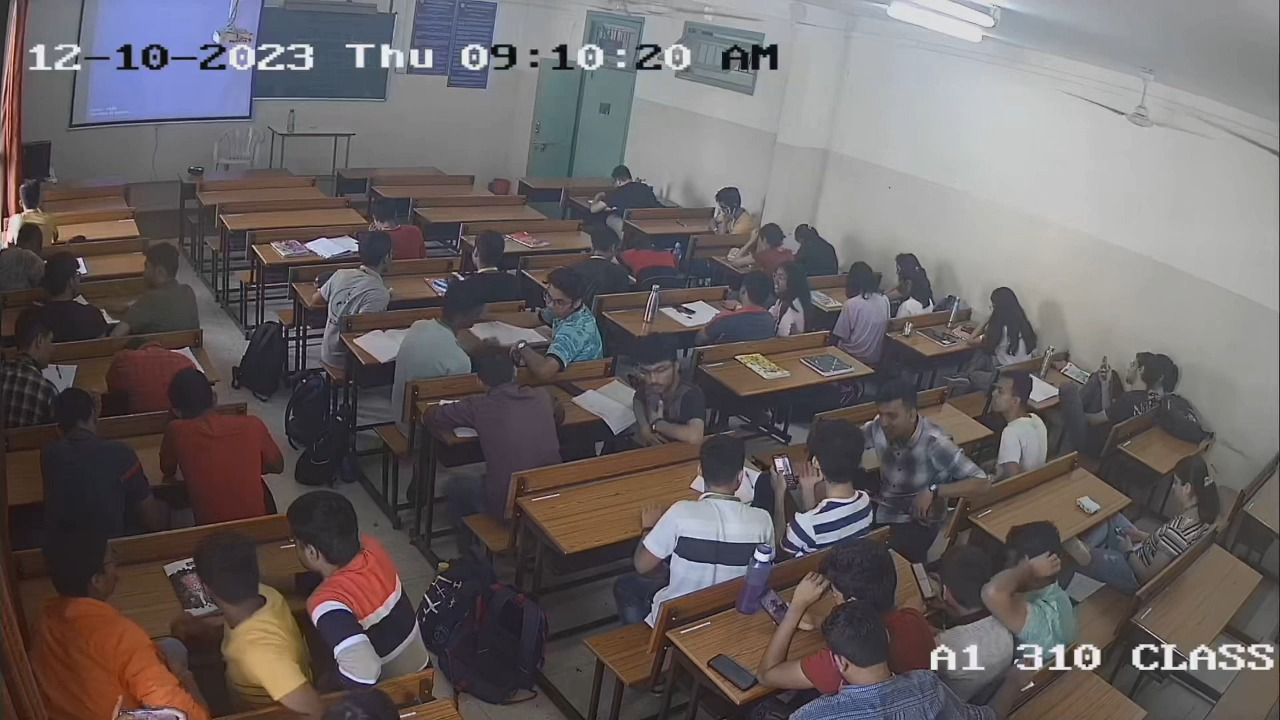cell-phones: (706, 652, 759, 692), (755, 587, 796, 632), (910, 560, 938, 602), (773, 452, 799, 490), (553, 379, 588, 397), (1113, 524, 1131, 549), (672, 303, 697, 317), (961, 322, 982, 338)
person: (771, 535, 948, 684), (788, 601, 960, 720), (1118, 454, 1216, 592), (774, 422, 877, 539), (930, 543, 1008, 683), (630, 332, 705, 450), (702, 270, 778, 344), (976, 286, 1038, 376)
